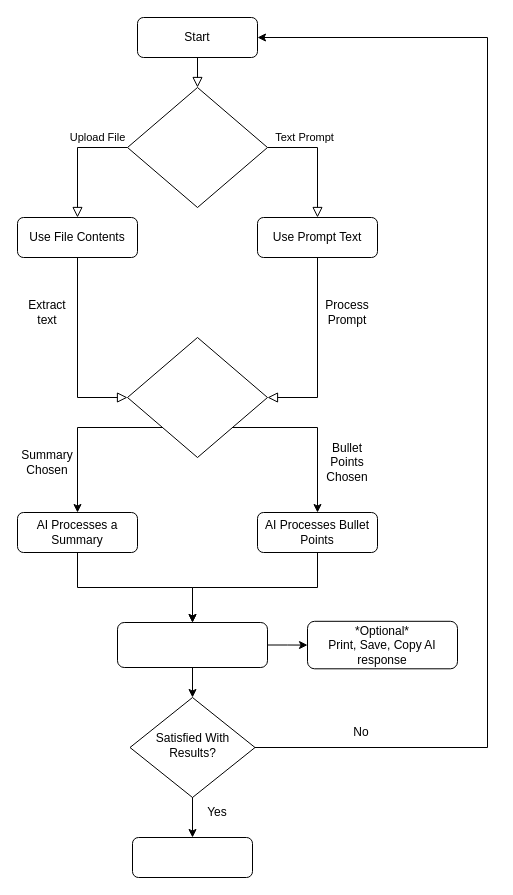
Some shapes in this 513 by 895 pixel diagram are drawn without their labels. The centre of each missing label's shape, as x and y in pixels:
Chatbot asks "Response in Summary or Bullet Points?": [197,397]
Display Response: [192,645]
End: [192,857]
Upload File or enter prompt: [197,147]
